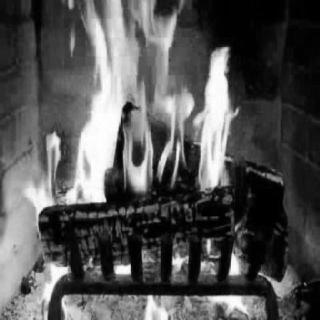Fire: (3, 0, 307, 309)
